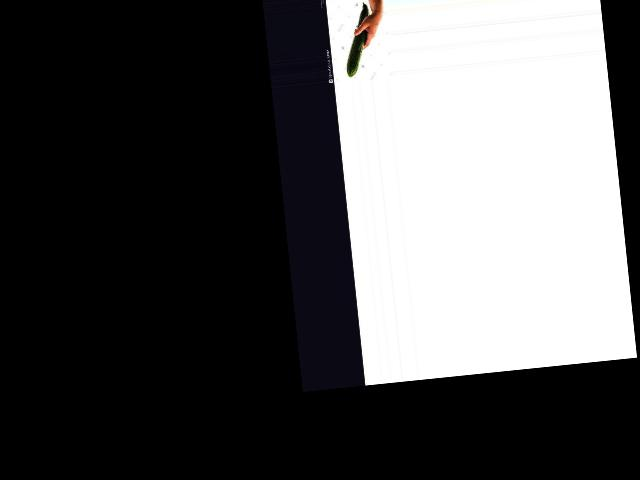cucumber: (339, 1, 375, 77)
